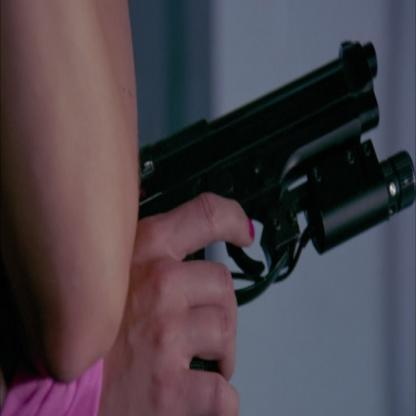gun: (121, 38, 416, 303)
